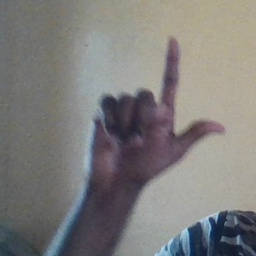L: (82, 35, 227, 184)
